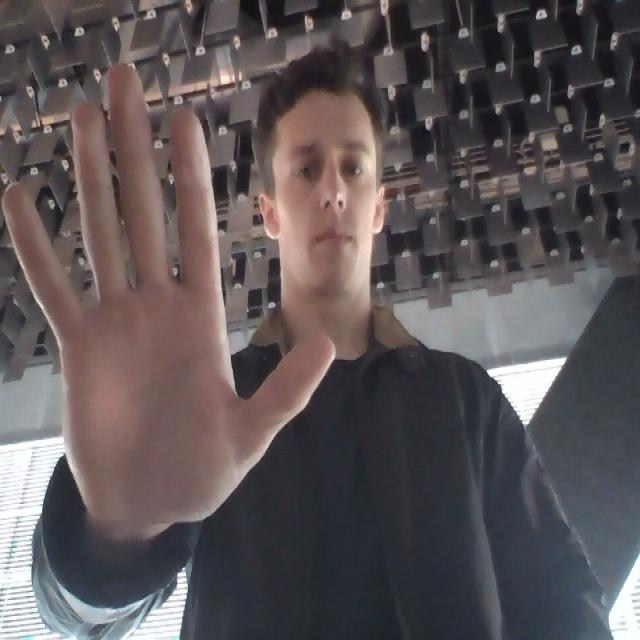backward: (5, 70, 344, 523)
